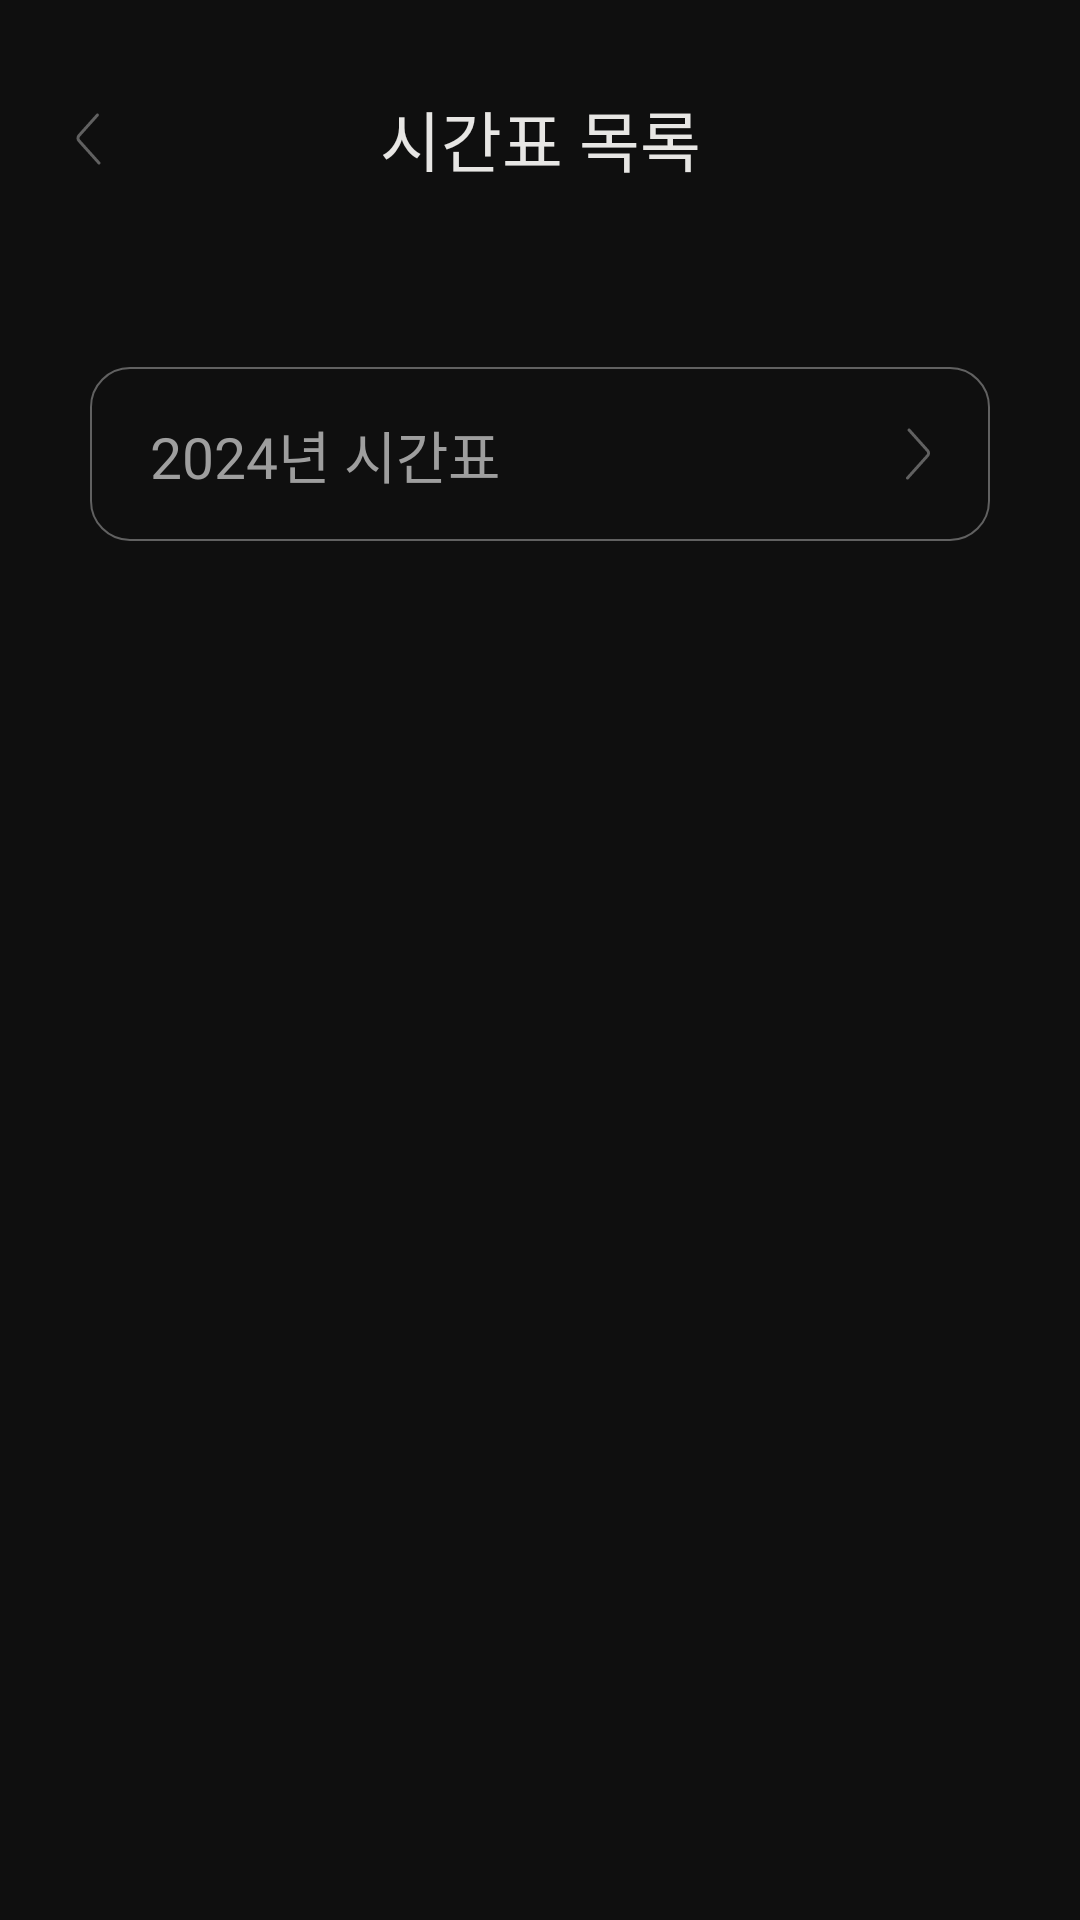

Screen size 1080w x 1920h. Icon name, then its box in pixels as Rect(x1, y1, x2, y2):
back: Rect(76, 113, 101, 165)
next: Rect(906, 428, 930, 480)
